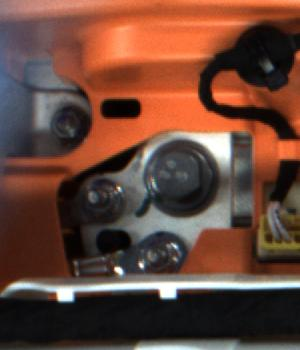nut_b: (142, 137, 228, 215)
